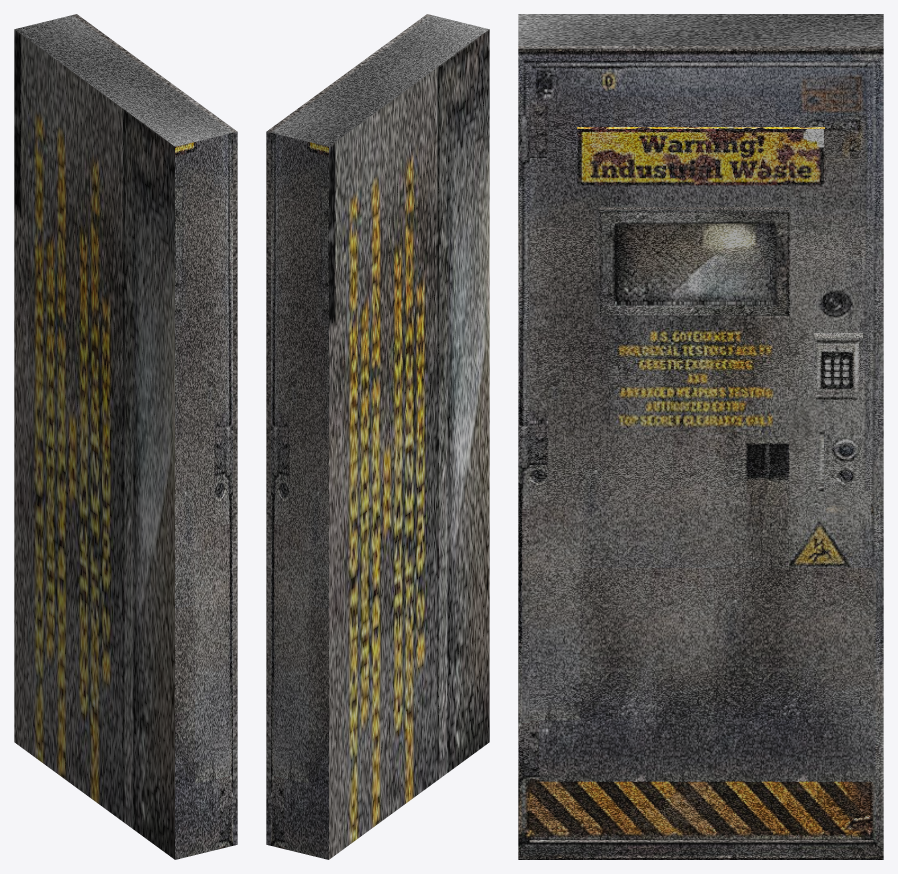
Rendered from Door.fbx.
The picture shows the model from 3 angles, left to right: view 1: azimuth 30°, elevation 25°; view 2: azimuth 150°, elevation 25°; view 3: azimuth 270°, elevation 25°; orthographic projection. The views are drawn at different scales.
Visible parts, largest first — view 1: Cube.004; view 2: Cube.004; view 3: Cube.004.
Boxes of the visible parts, x1,y1,x2,y2 form: Cube.004: (14, 14, 237, 859); Cube.004: (266, 14, 489, 859); Cube.004: (518, 14, 883, 859).
Bounding box in the file's own units: 25.03 × 246 × 101.
